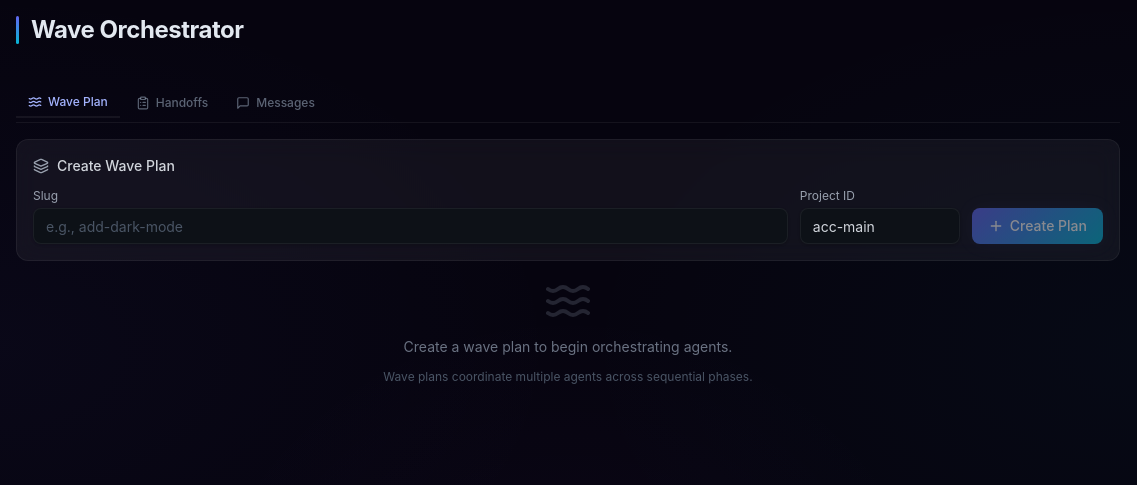
Test case: Orchestrate tabs › switches to Messages panel on tab click
Click the tab "Messages" at (276, 103), box [224,88,327,118]
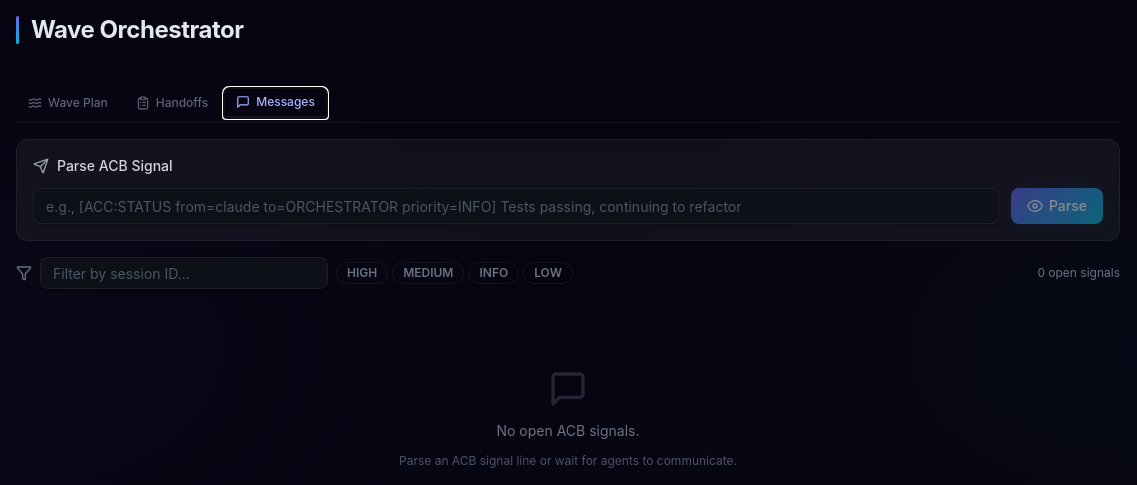
Expected: the text "Parse ACB Signal" is shown, [57,156,172,176]
